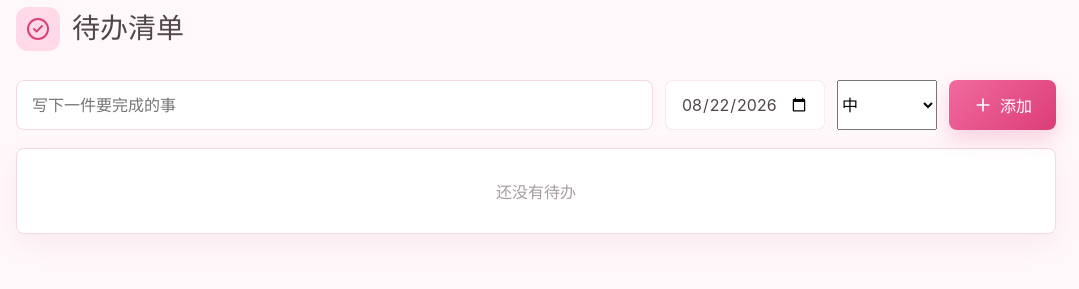
TasksPage › 点击完成按钮后切换完成状态
The width and height of the screenshot is (1079, 289).
Type "整理资料" into the field named "新待办". click: (334,105)
box: [16,80,653,130]
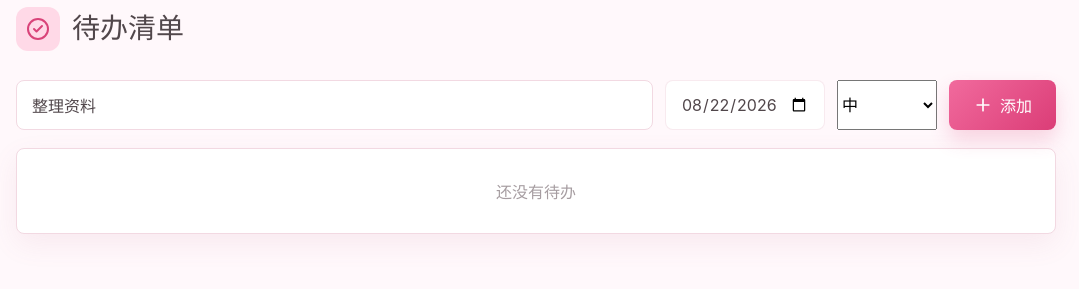
Click the button "添加". click: (1002,105)
box: [949,80,1056,130]
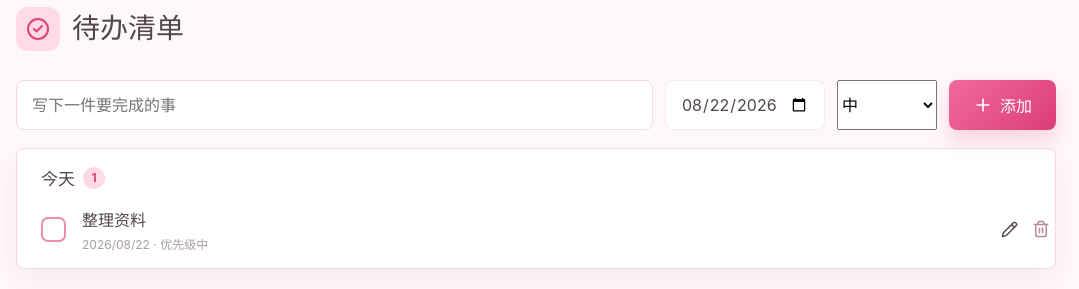
Click the button named "标记为完成". click: (54,229)
box: [41,216,66,242]
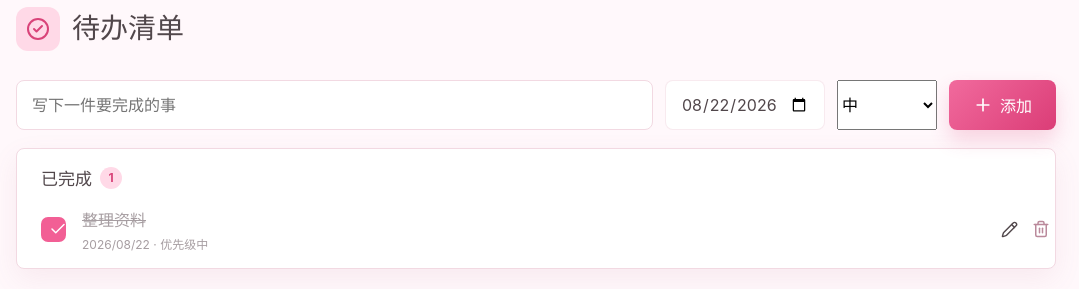
Now the button named "标记为未完成" is shown, box [41,216,66,242]
